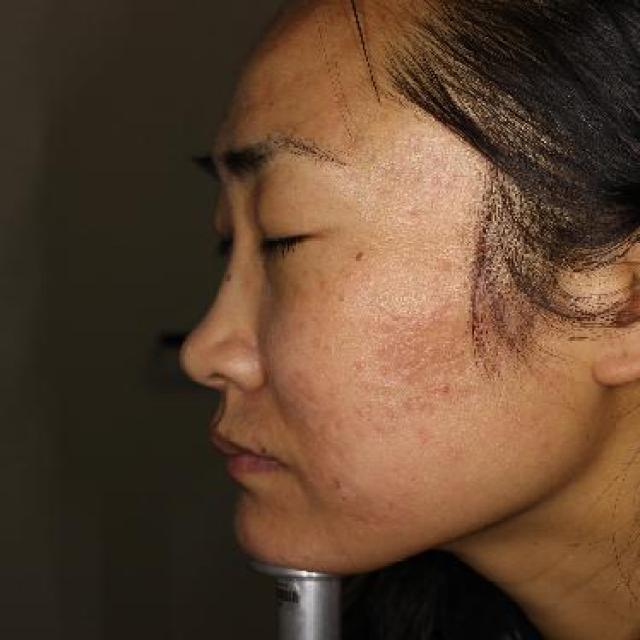Acne: (323, 472, 352, 497), (429, 378, 456, 400)
Blackheads: (348, 242, 370, 266), (254, 438, 274, 457)
